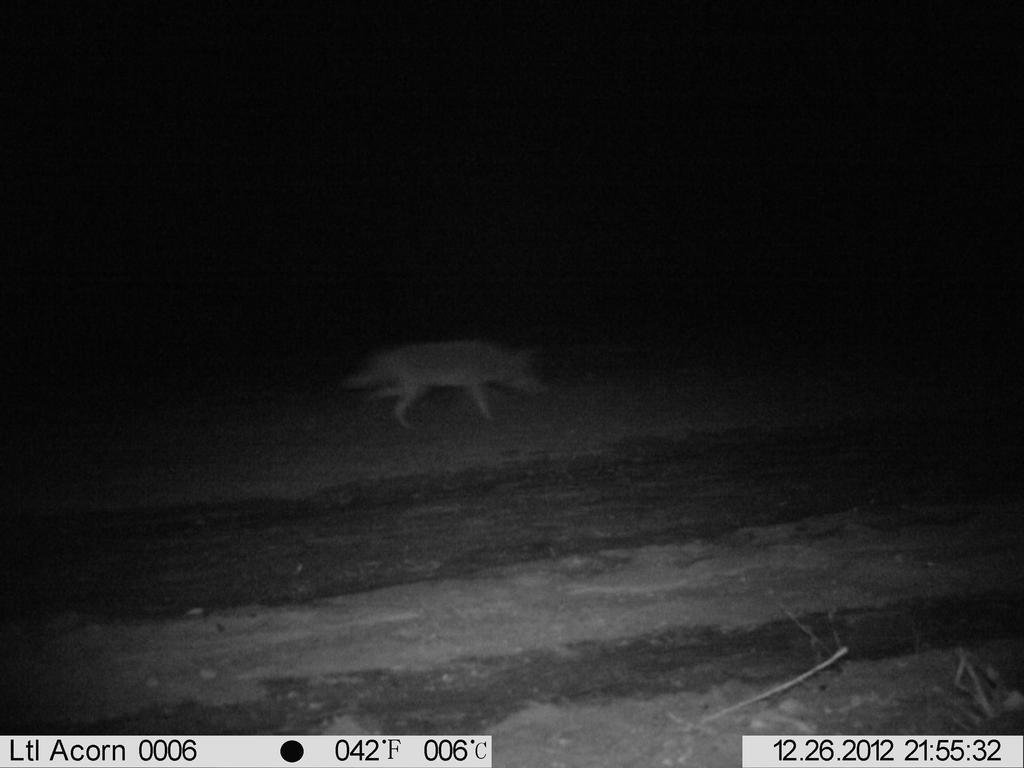coyote: (249, 260, 610, 471)
